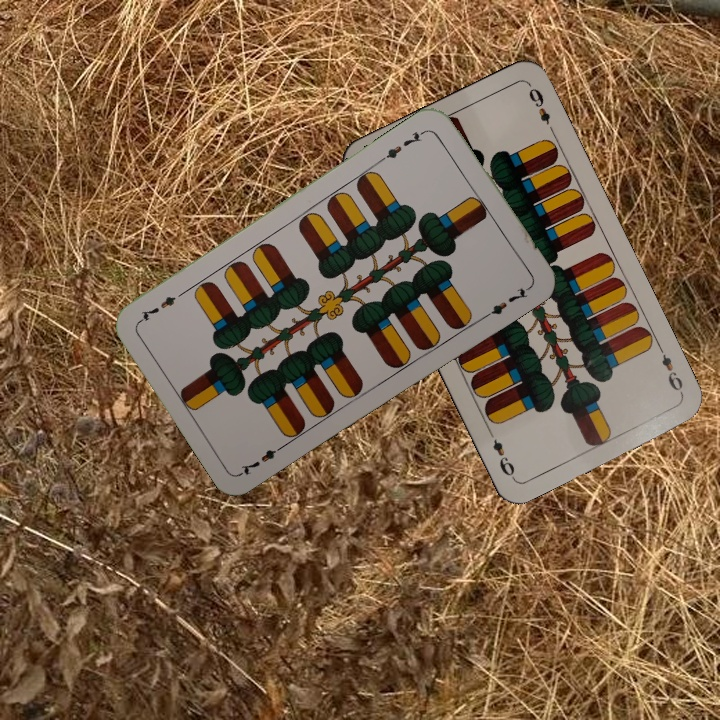E7: (377, 125, 430, 163), (237, 439, 289, 477)
E9: (654, 342, 686, 398)
